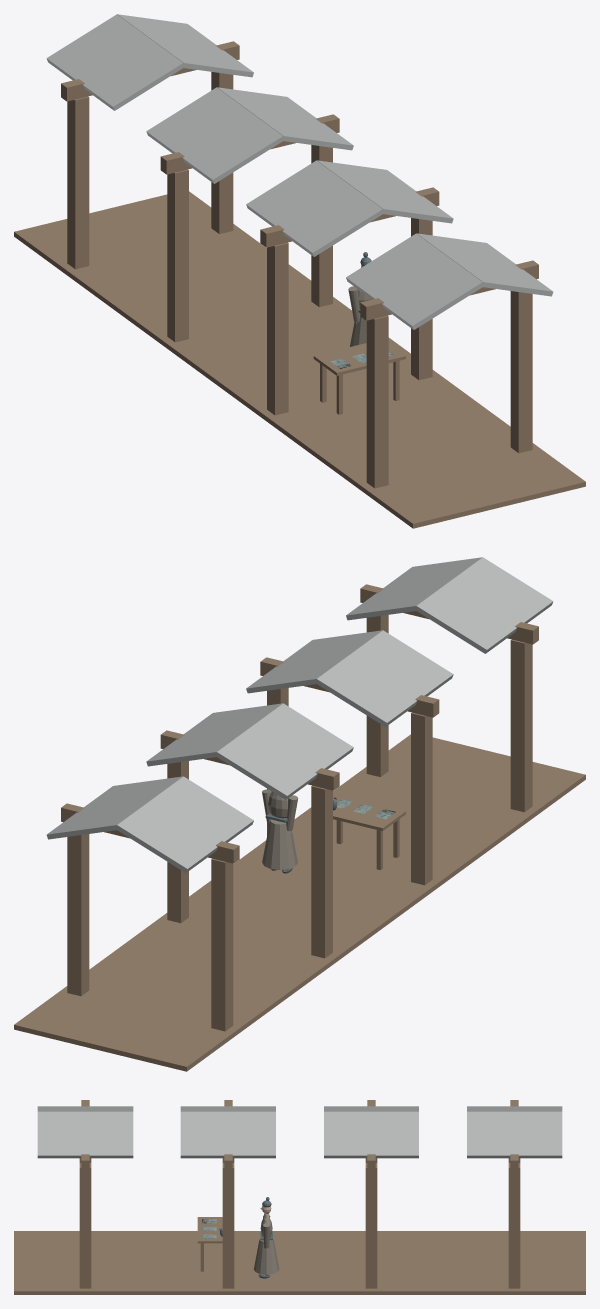
File: EP02-SET01.glb
3 views of the same model, one above another, from view 1: azimuth 30°, elevation 25°; view 2: azimuth 150°, elevation 25°; view 3: azimuth 270°, elevation 25° (orthographic). The views are drawn at different scales.
Parts seen in each view (by area): view 1: floor (×4), roof_left (×4), column (×8), roof_right (×4), beam (×4), tabletop; view 2: floor (×4), roof_left (×4), column (×7), roof_right (×4), beam (×4), robe_skirt, tabletop; view 3: floor (×4), roof_right (×4), column (×4), roof_left (×4), robe_skirt, tabletop.
Part boxes in pixels (x1,y1,x2,y2): floor (×4): (14, 191, 585, 528); roof_left (×4): (46, 14, 483, 329); column (×8): (67, 72, 532, 488); roof_right (×4): (117, 14, 553, 296); beam (×4): (61, 41, 538, 320); tabletop: (313, 343, 405, 375); floor (×4): (14, 734, 585, 1071); roof_left (×4): (116, 557, 553, 872); column (×7): (67, 615, 532, 1031); roof_right (×4): (46, 557, 482, 839); beam (×4): (61, 584, 538, 863); robe_skirt: (262, 819, 297, 869); tabletop: (333, 794, 405, 831); floor (×4): (14, 1231, 585, 1294); roof_right (×4): (37, 1111, 562, 1158); column (×4): (79, 1163, 520, 1288); roof_left (×4): (37, 1106, 562, 1111); robe_skirt: (253, 1238, 279, 1274); tabletop: (197, 1217, 222, 1243).
Size of the model in its own units: 3 by 3.54 by 12.
14 materials, 4 textured.
